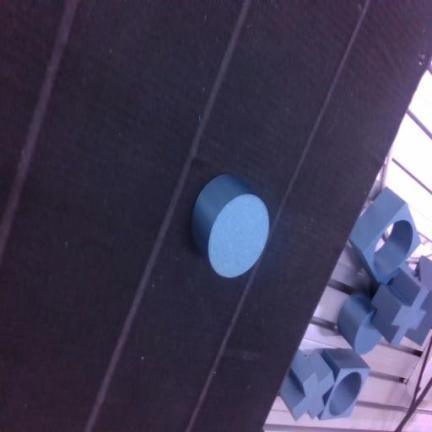cylinder: (192, 174, 268, 278)
